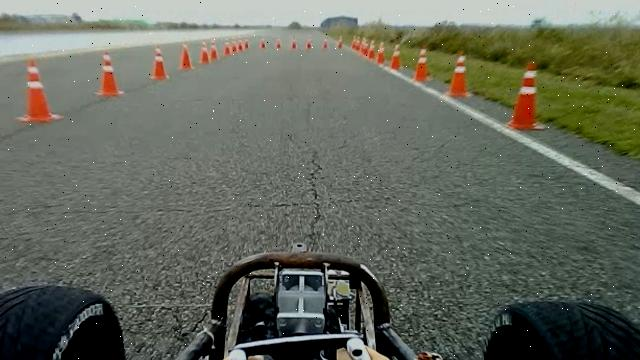red cone: (15, 58, 64, 123), (506, 60, 547, 131), (95, 52, 124, 96), (446, 51, 472, 98), (150, 46, 170, 80), (412, 46, 430, 82), (180, 43, 194, 70), (389, 43, 402, 71), (200, 41, 210, 64), (377, 41, 386, 64), (210, 40, 219, 61), (368, 40, 376, 59), (291, 35, 297, 50), (276, 36, 282, 50), (306, 37, 312, 50), (338, 34, 343, 49)
